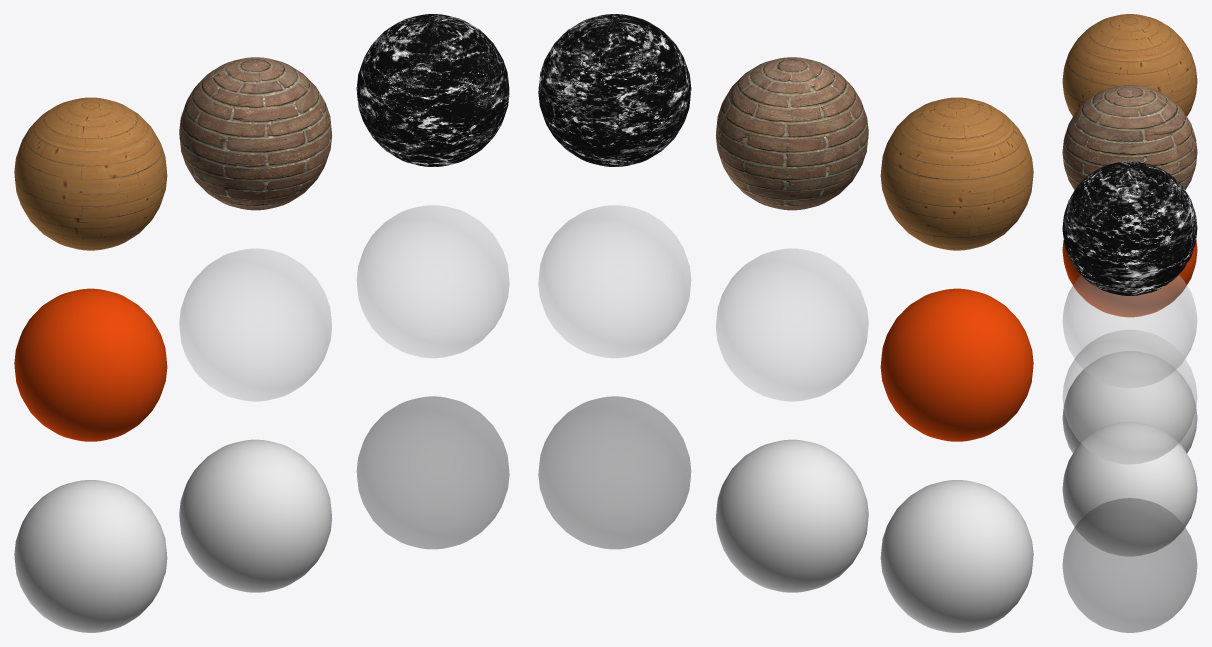
File: materials_test.glb
3 views of the same model, side by side, from view 1: azimuth 30°, elevation 25°; view 2: azimuth 150°, elevation 25°; view 3: azimuth 270°, elevation 25° (orthographic). The views are drawn at different scales.
Visible parts, largest first — view 1: Sphere.006, Sphere.001, Sphere.003, Sphere.007, Sphere, Sphere.008, Sphere.002, Sphere.005, Sphere.004; view 2: Sphere.006, Sphere.001, Sphere.003, Sphere.007, Sphere, Sphere.008, Sphere.002, Sphere.005, Sphere.004; view 3: Sphere.008, Sphere.001, Sphere.002, Sphere.005, Sphere.004, Sphere.007, Sphere.006, Sphere, Sphere.003.
Boxes of the visible parts, left/top/right/bottom form: Sphere.006: left=14, top=97, right=167, bottom=250; Sphere.001: left=179, top=439, right=332, bottom=592; Sphere.003: left=14, top=288, right=167, bottom=441; Sphere.007: left=179, top=57, right=331, bottom=210; Sphere: left=14, top=480, right=167, bottom=632; Sphere.008: left=356, top=14, right=509, bottom=166; Sphere.002: left=356, top=396, right=509, bottom=549; Sphere.005: left=357, top=205, right=509, bottom=357; Sphere.004: left=179, top=248, right=331, bottom=401; Sphere.006: left=880, top=97, right=1033, bottom=250; Sphere.001: left=715, top=439, right=868, bottom=592; Sphere.003: left=880, top=288, right=1033, bottom=441; Sphere.007: left=716, top=57, right=868, bottom=210; Sphere: left=880, top=480, right=1033, bottom=632; Sphere.008: left=538, top=14, right=691, bottom=166; Sphere.002: left=538, top=396, right=691, bottom=549; Sphere.005: left=538, top=205, right=690, bottom=357; Sphere.004: left=716, top=248, right=868, bottom=401; Sphere.008: left=1062, top=161, right=1197, bottom=295; Sphere.001: left=1062, top=421, right=1197, bottom=556; Sphere.002: left=1062, top=498, right=1197, bottom=632; Sphere.005: left=1062, top=330, right=1197, bottom=464; Sphere.004: left=1062, top=275, right=1197, bottom=387; Sphere.007: left=1062, top=85, right=1197, bottom=189; Sphere.006: left=1062, top=14, right=1197, bottom=116; Sphere: left=1062, top=351, right=1197, bottom=453; Sphere.003: left=1062, top=240, right=1197, bottom=317.
Bounding box in the file's own units: 7.16 × 7.5 × 2.
9 materials, 3 textured.
